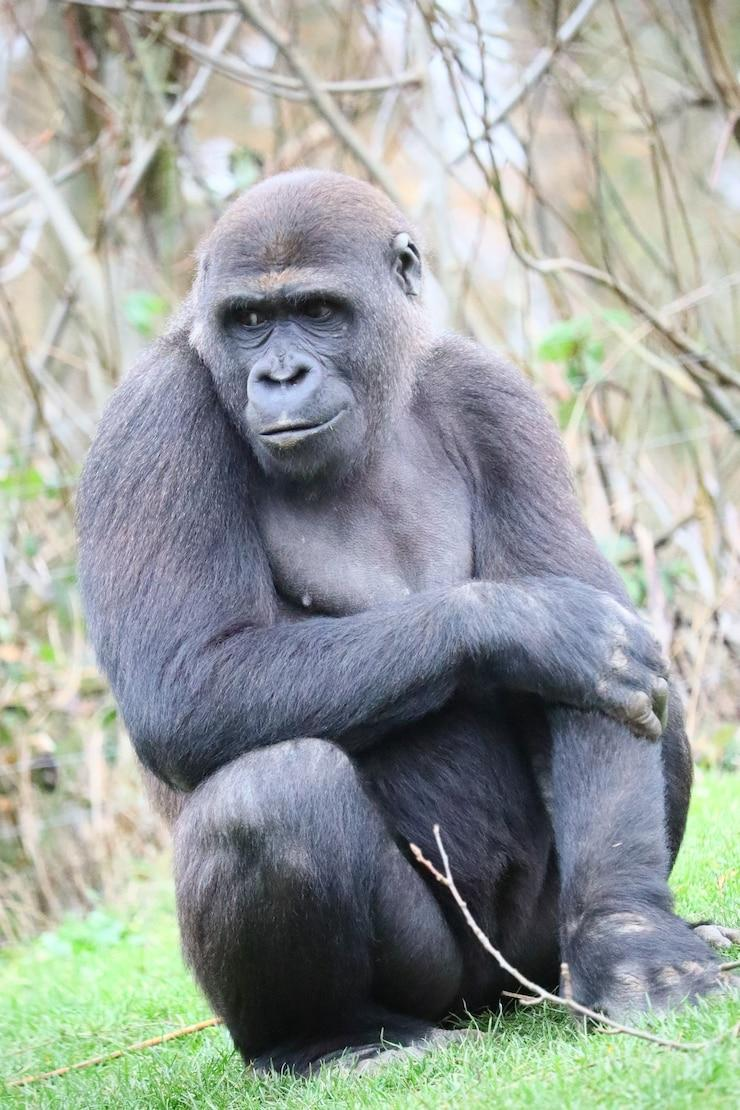gorille_Autres: (0, 80, 740, 1091)
